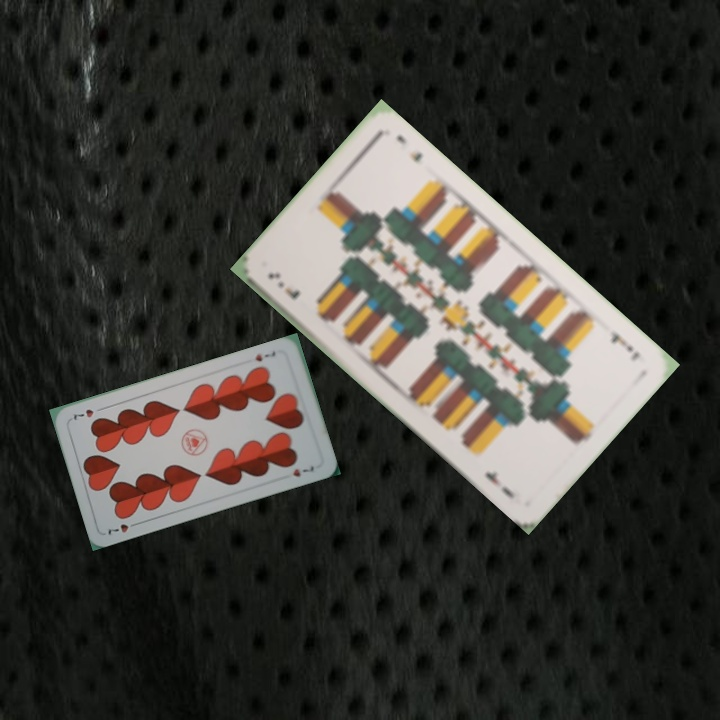E7: (606, 326, 643, 364), (263, 268, 303, 302)
H7: (104, 518, 142, 537), (251, 347, 278, 364)
